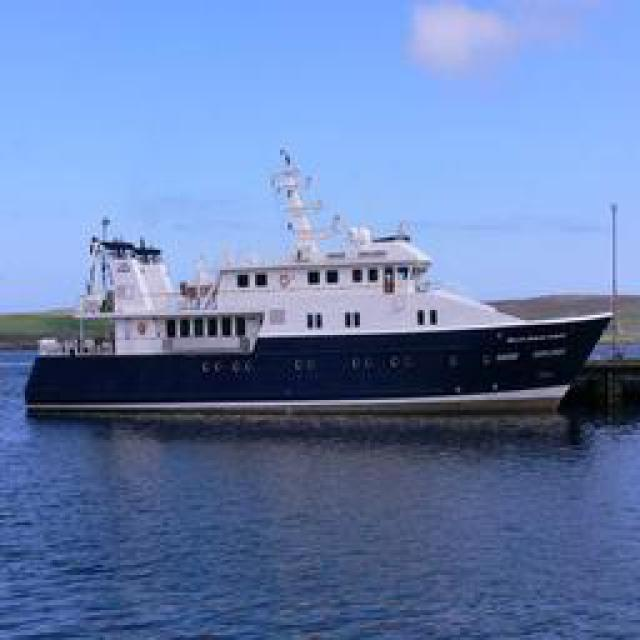Ship: (31, 145, 616, 410)
